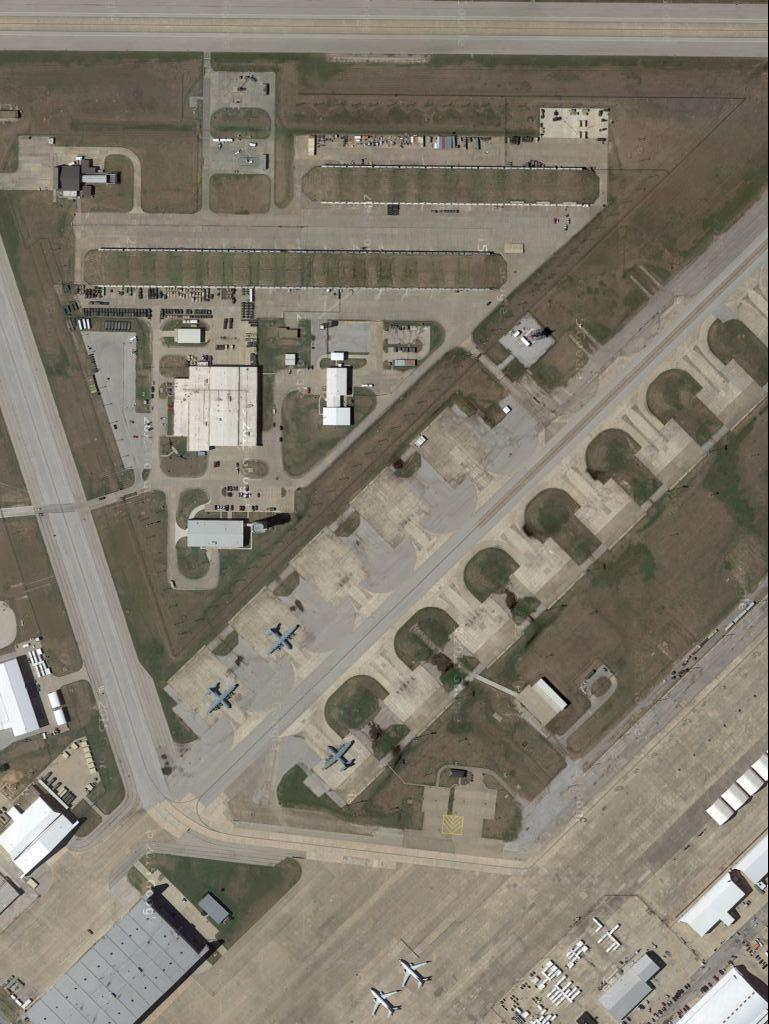C-130: (263, 615, 306, 660), (320, 735, 360, 779), (203, 677, 241, 718)
